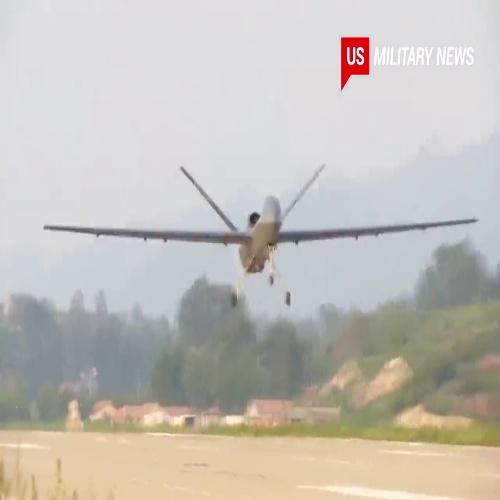uav: (39, 161, 482, 307)
